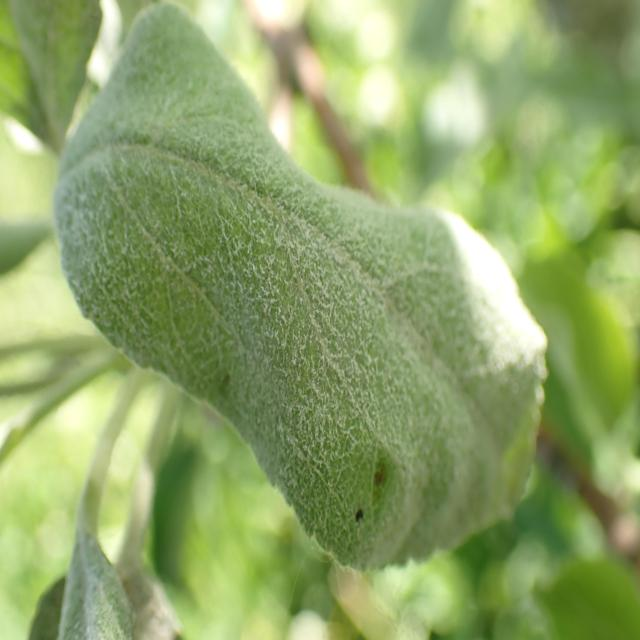Powdery_mildew: (44, 0, 557, 586)
